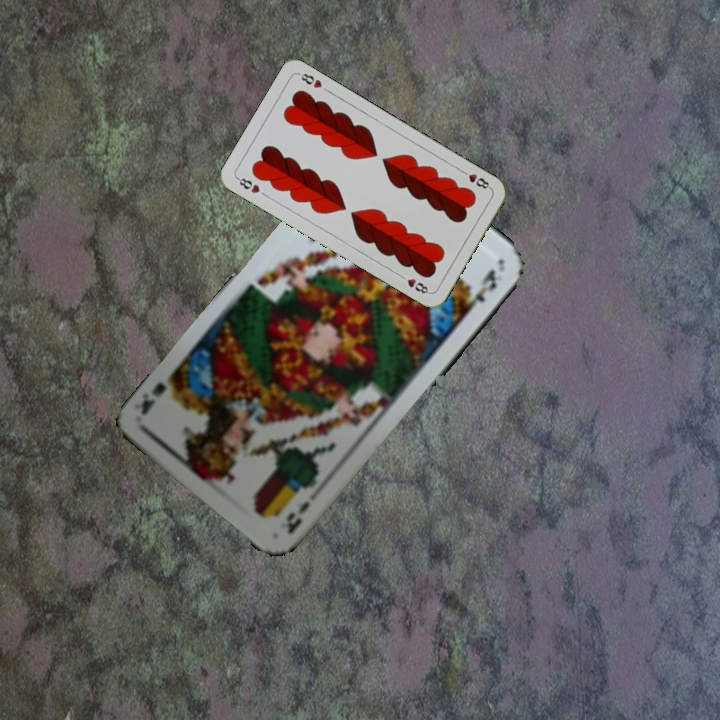EK: (282, 496, 312, 537)
H8: (457, 166, 494, 192), (233, 173, 262, 196)
